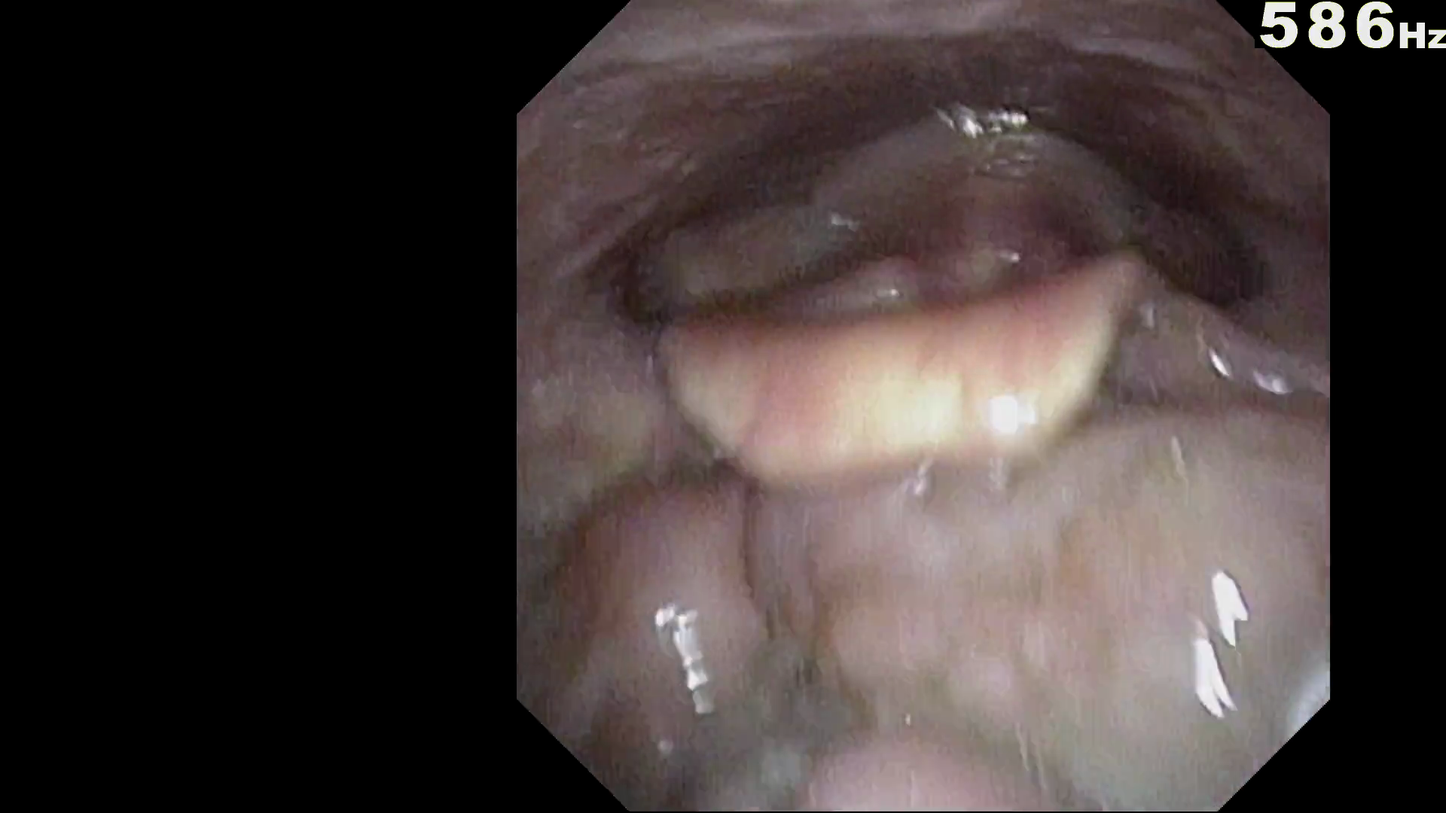epiglottis: (666, 276, 1233, 456)
